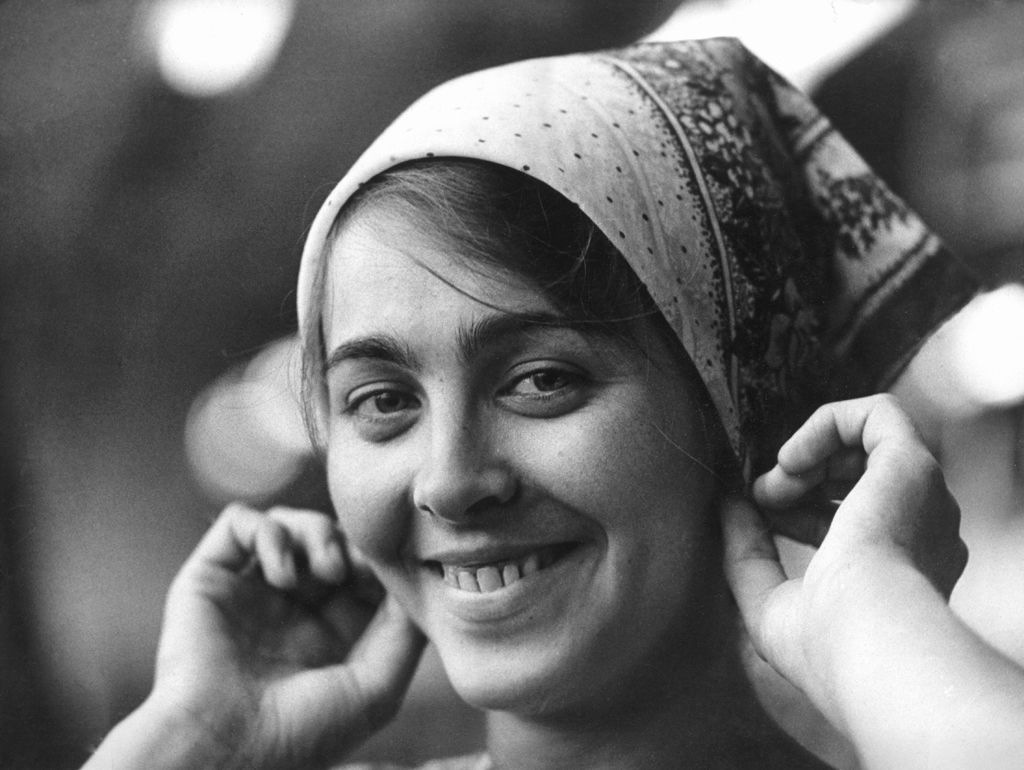without_mask: (323, 288, 634, 649)
